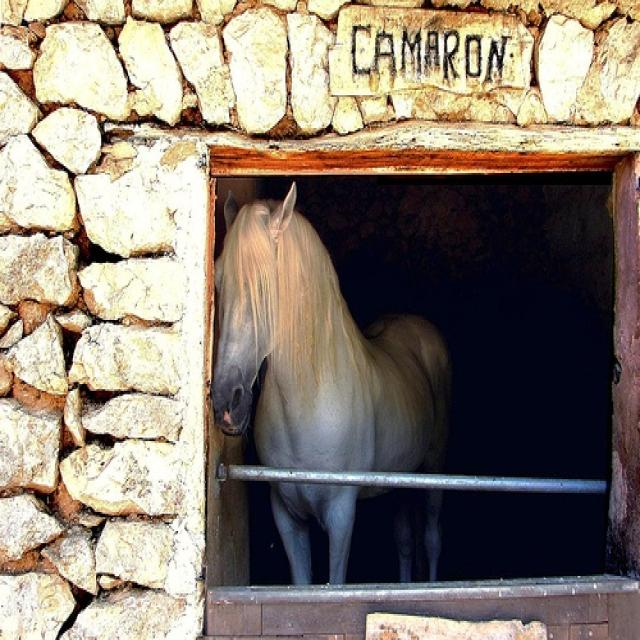horse: (211, 176, 453, 590)
